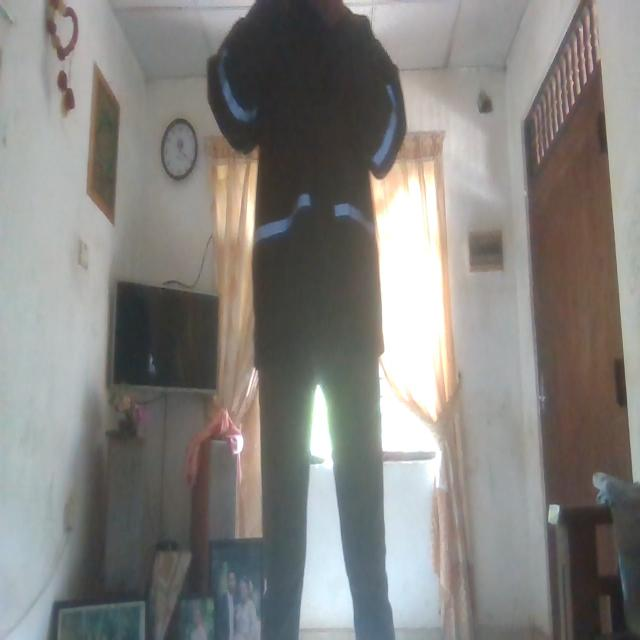Jacket_Wearer: (212, 0, 392, 360)
Person: (212, 0, 411, 635)
